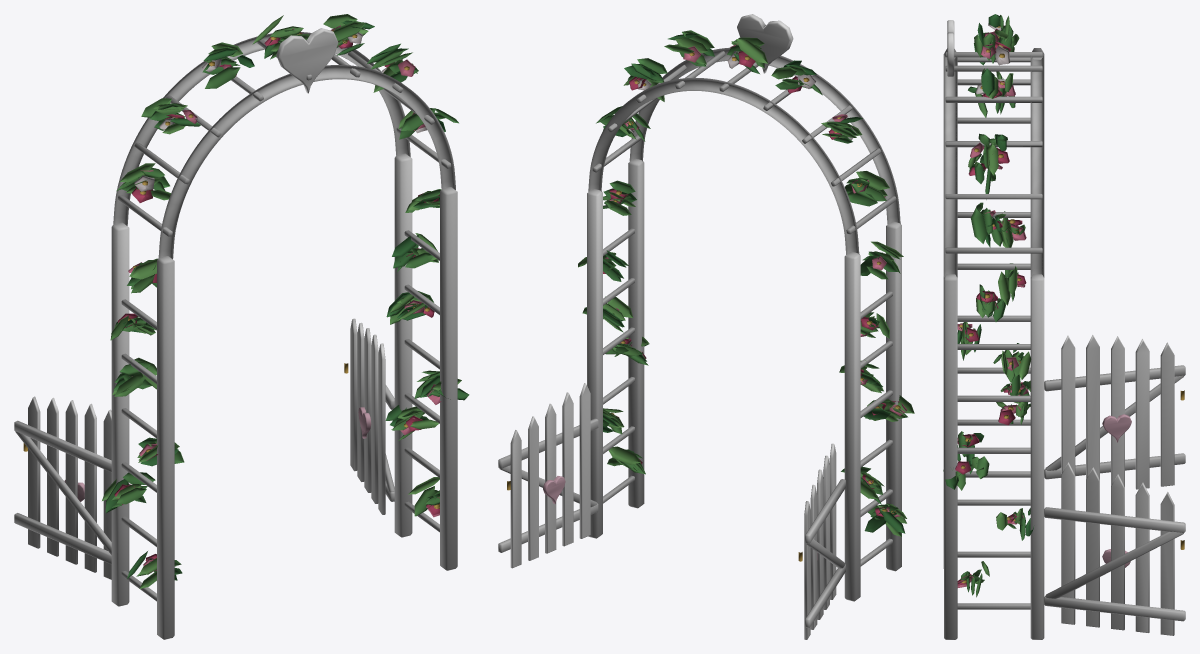
File: bld_home_garden.glb
The picture shows the model from 3 angles, left to right: view 1: azimuth 30°, elevation 25°; view 2: azimuth 150°, elevation 25°; view 3: azimuth 270°, elevation 25°; orthographic projection. The views are drawn at different scales.
Parts seen in each view (by area): view 1: INST_bld_home_garden_arbor_s_paint, INST_bld_home_garden_arbor_s_fixed; view 2: INST_bld_home_garden_arbor_s_paint, INST_bld_home_garden_arbor_s_fixed; view 3: INST_bld_home_garden_arbor_s_paint, INST_bld_home_garden_arbor_s_fixed.
Part boxes in pixels (x1,y1,x2,y2): INST_bld_home_garden_arbor_s_paint: [14, 28, 457, 639]; INST_bld_home_garden_arbor_s_fixed: [102, 14, 469, 588]; INST_bld_home_garden_arbor_s_paint: [498, 14, 901, 639]; INST_bld_home_garden_arbor_s_fixed: [578, 30, 914, 536]; INST_bld_home_garden_arbor_s_paint: [943, 20, 1185, 639]; INST_bld_home_garden_arbor_s_fixed: [943, 14, 1034, 597].
Size of the model in its own units: 2.18 by 3.46 by 1.4.
